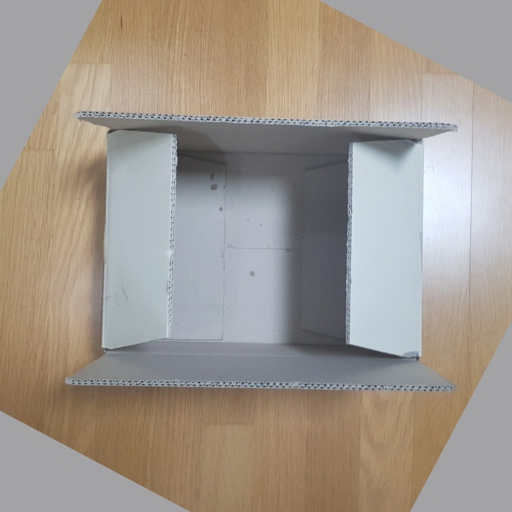Paper_0: (60, 103, 464, 400)
